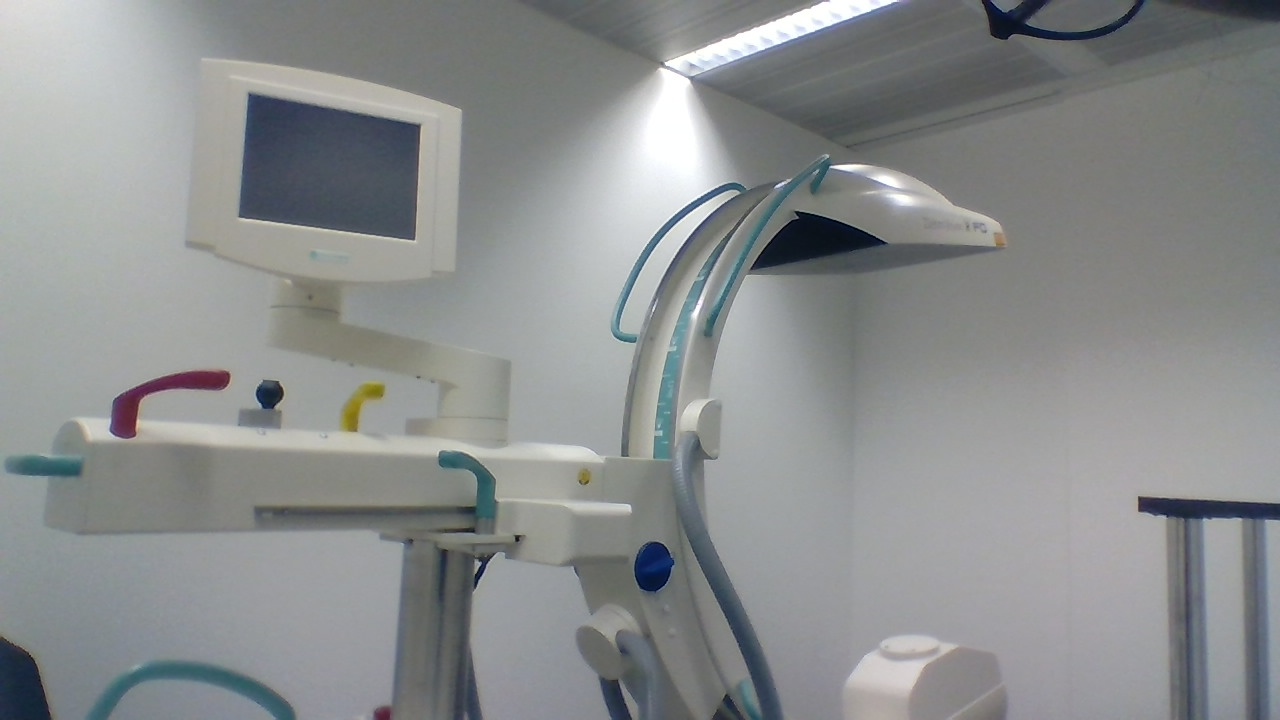carmDOWN: (837, 632, 1003, 716)
carmLOCK: (633, 539, 673, 595)
carmSCREEN: (184, 53, 467, 290)
carmUP: (693, 161, 1009, 278)
